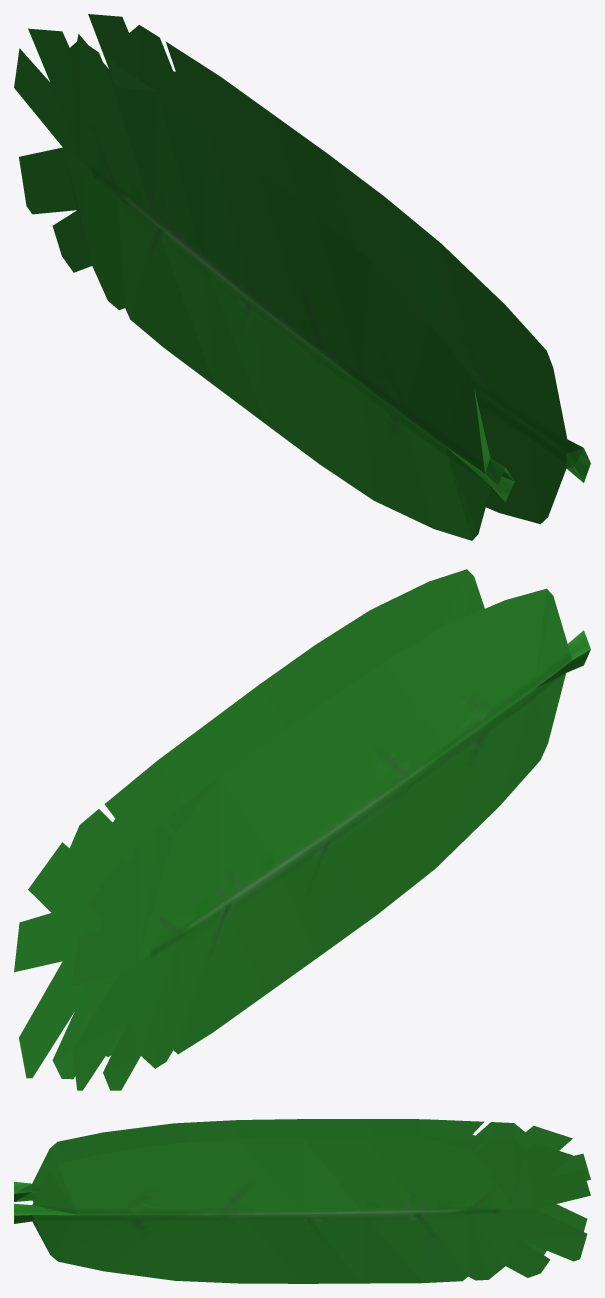
File: BR_Tropius.obj
3 renders of one model, top to bottom at view 1: azimuth 30°, elevation 25°; view 2: azimuth 150°, elevation 25°; view 3: azimuth 270°, elevation 25°, orthographic. The views are drawn at different scales.
Visible parts, largest first — view 1: tropius; view 2: tropius; view 3: tropius.
Boxes of the visible parts, x1,y1,x2,y2 form: tropius: (14, 14, 590, 540); tropius: (14, 569, 590, 1090); tropius: (14, 1119, 590, 1283).
Size of the model in its own units: 2.29 by 6.1 by 21.43.
1 material, 1 textured.
